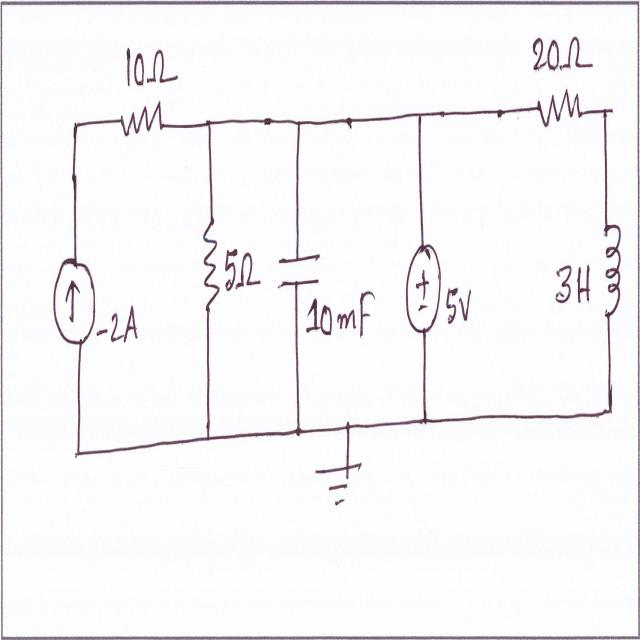capacitor: (277, 239, 326, 298)
current_source: (49, 255, 102, 353)
ground: (310, 441, 366, 518)
inductor: (600, 202, 625, 336)
resistor: (108, 92, 176, 146), (197, 196, 221, 328), (530, 92, 590, 137)
voltage_source: (403, 224, 446, 350)
